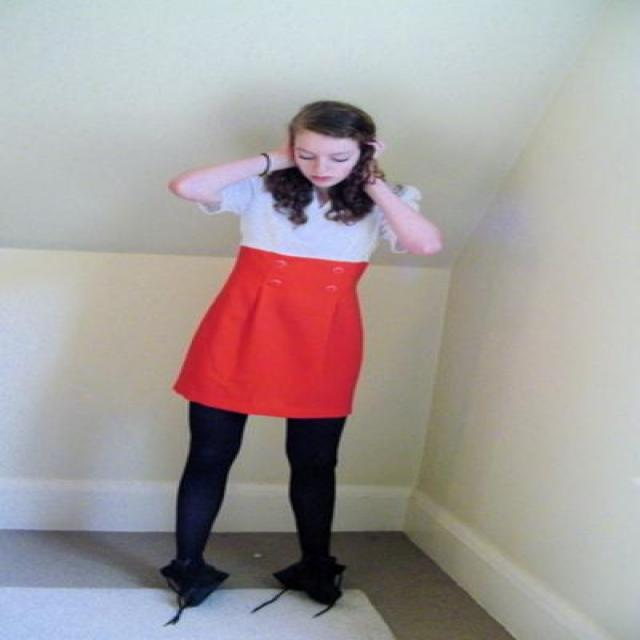dress: (173, 181, 397, 417)
shoe: (160, 550, 344, 614)
